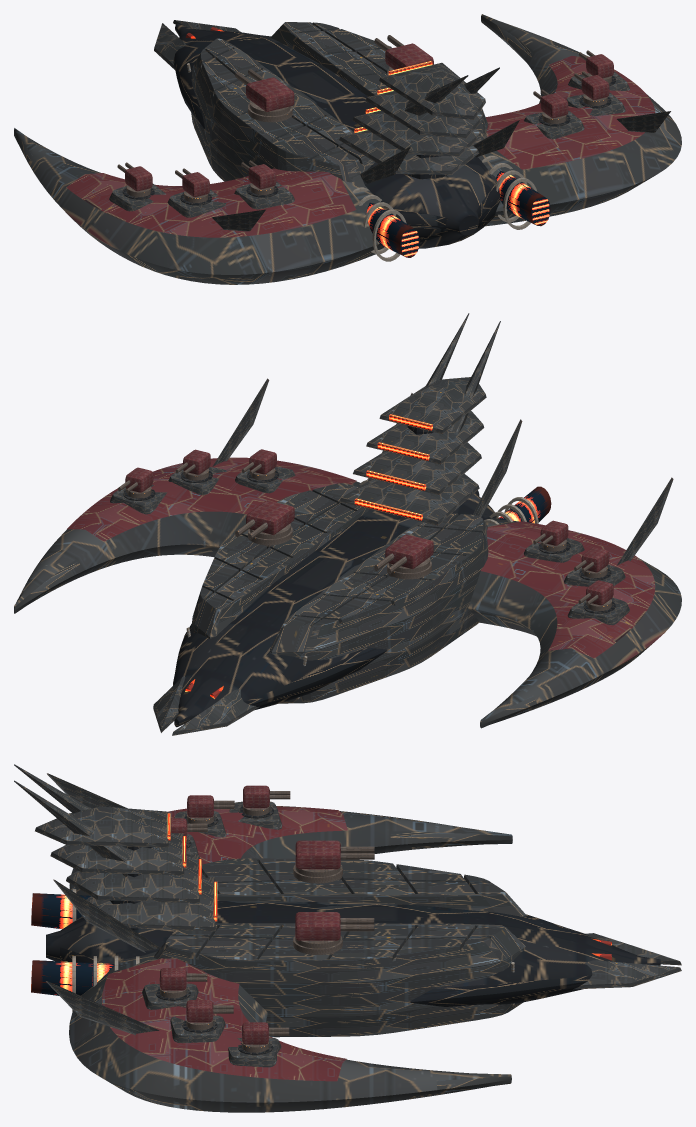
File: dynasty_battleship_recreated.glb
The picture shows the model from 3 angles, top to bottom: view 1: azimuth 30°, elevation 25°; view 2: azimuth 150°, elevation 25°; view 3: azimuth 270°, elevation 25°; orthographic projection. The views are drawn at different scales.
Parts seen in each view (by area): view 1: dynasty_battleship_recreated; view 2: dynasty_battleship_recreated; view 3: dynasty_battleship_recreated.
Part boxes in pixels (bbox=[...]): dynasty_battleship_recreated: bbox=[14, 14, 681, 284]; dynasty_battleship_recreated: bbox=[14, 313, 681, 735]; dynasty_battleship_recreated: bbox=[14, 764, 681, 1112].
Size of the model in its own units: 3.8 by 1.39 by 3.74.
Materials: 1 (1 with a texture image).
